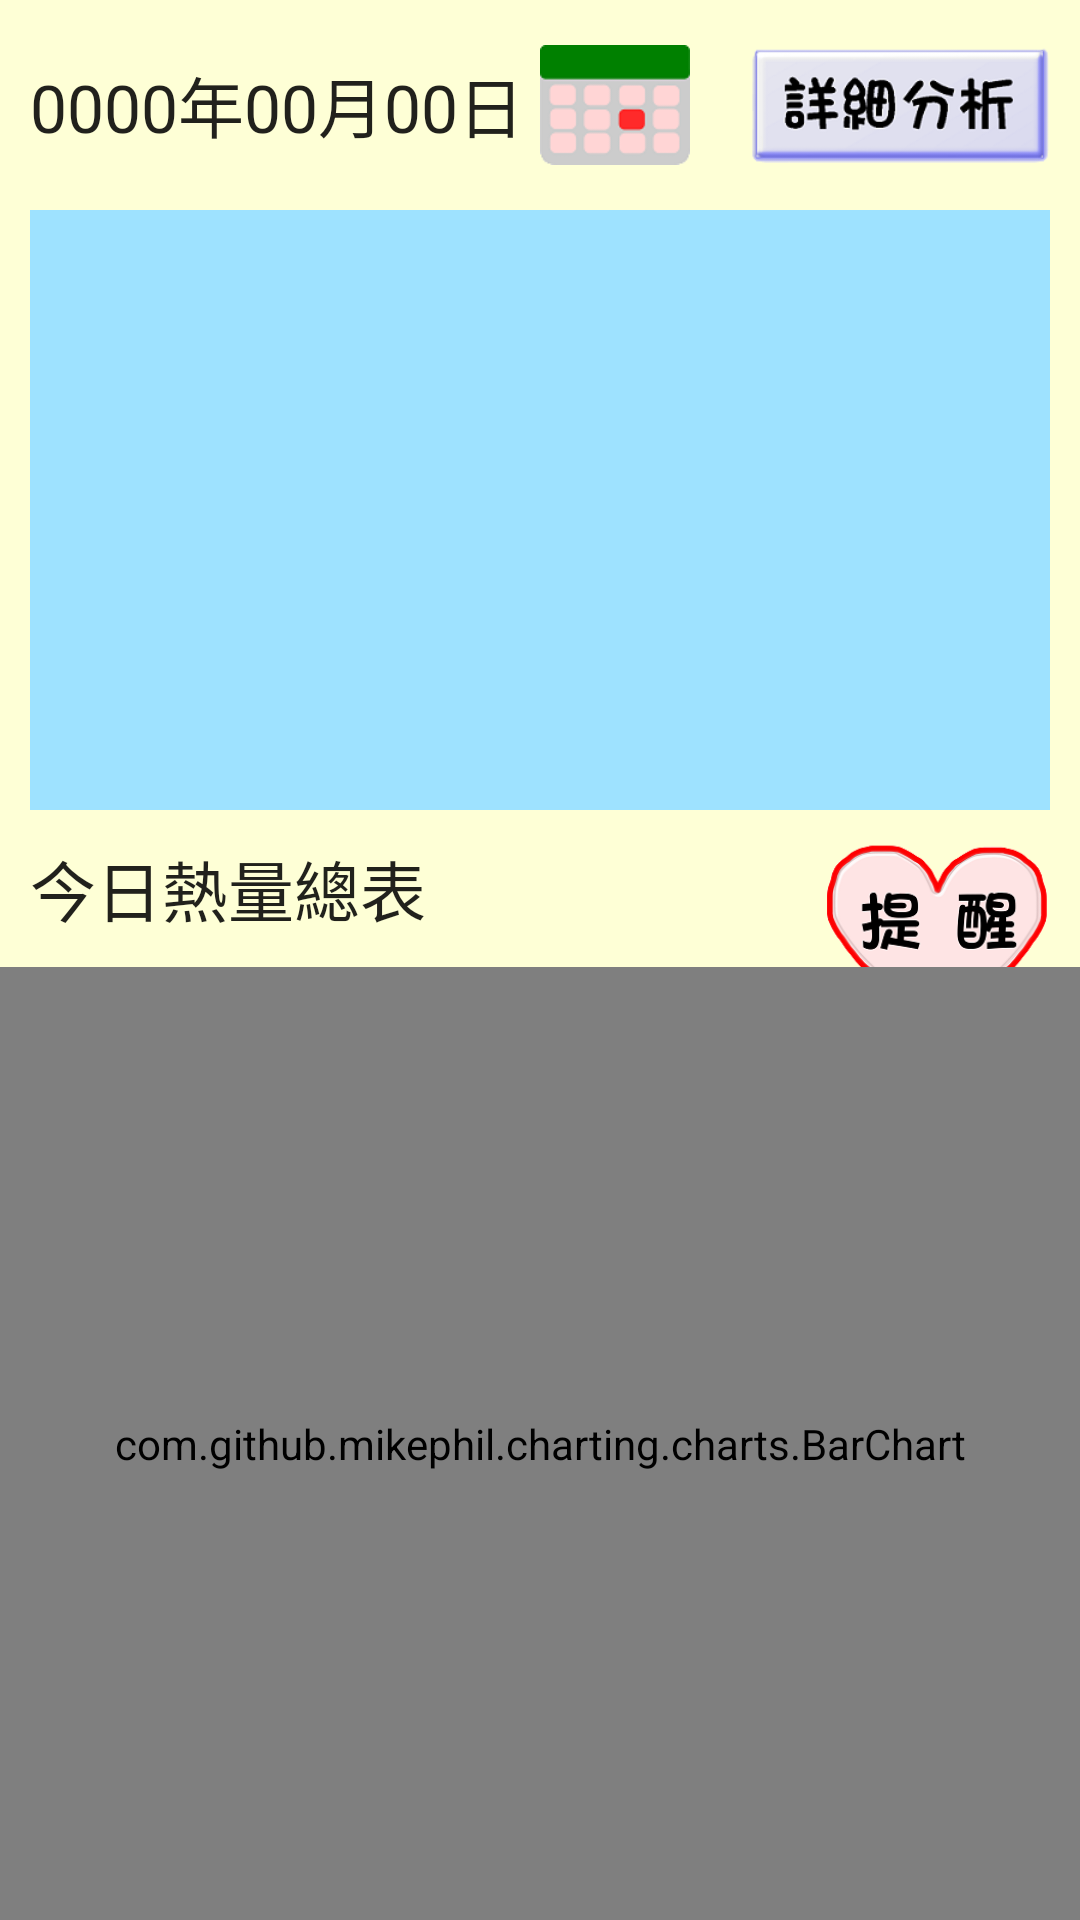

Named icons in this screenshot (1080px×1920px) and their centers, [x,y]:
calendar: [615,105]
